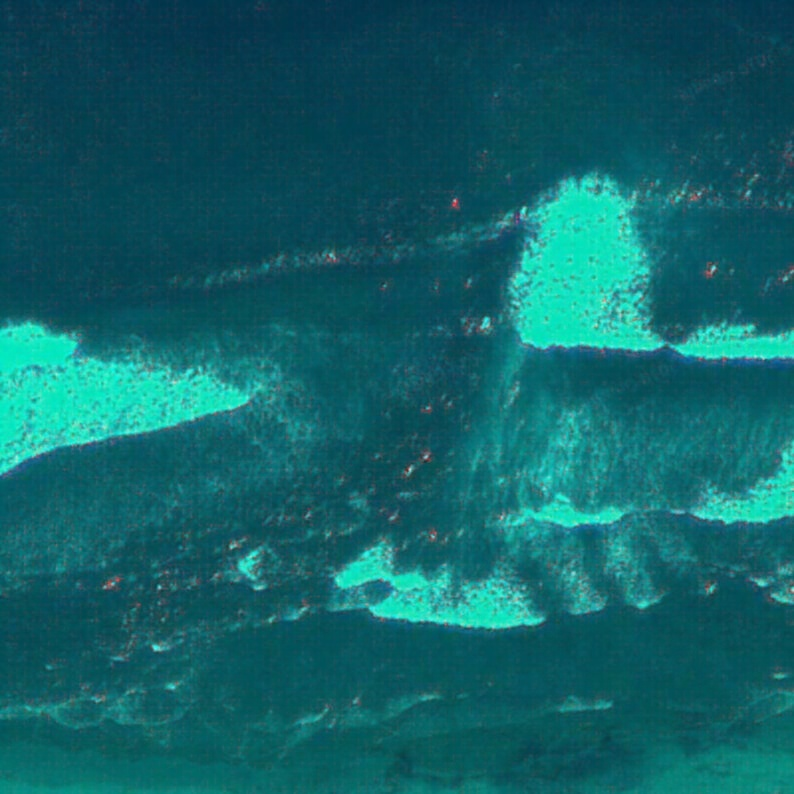rip_current: (268, 120, 602, 565)
